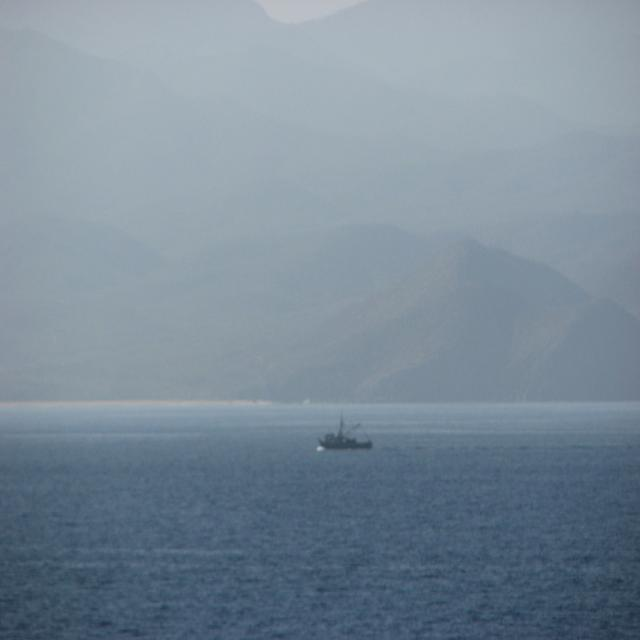fishing boat: (319, 409, 377, 451)
